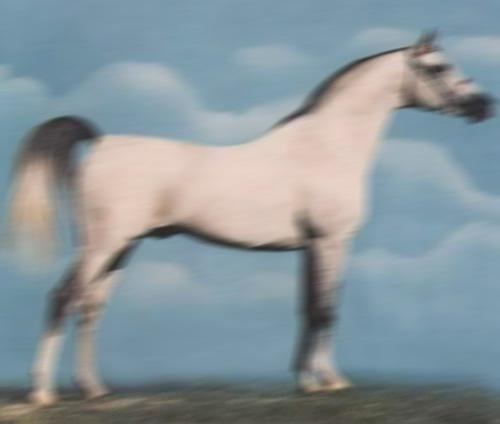horse: (1, 25, 496, 406)
